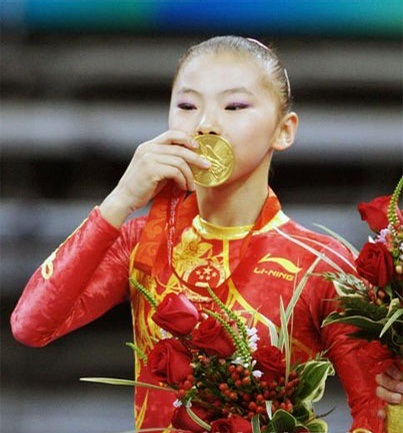face: (167, 48, 273, 186)
